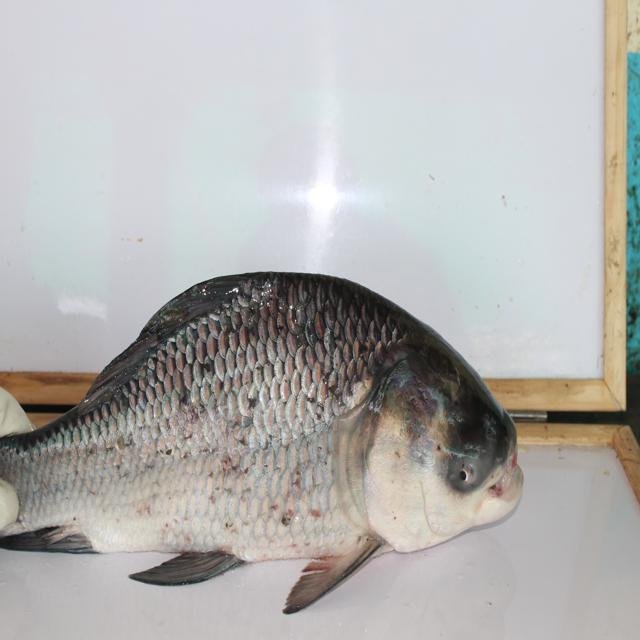Catla: (1, 268, 524, 619)
